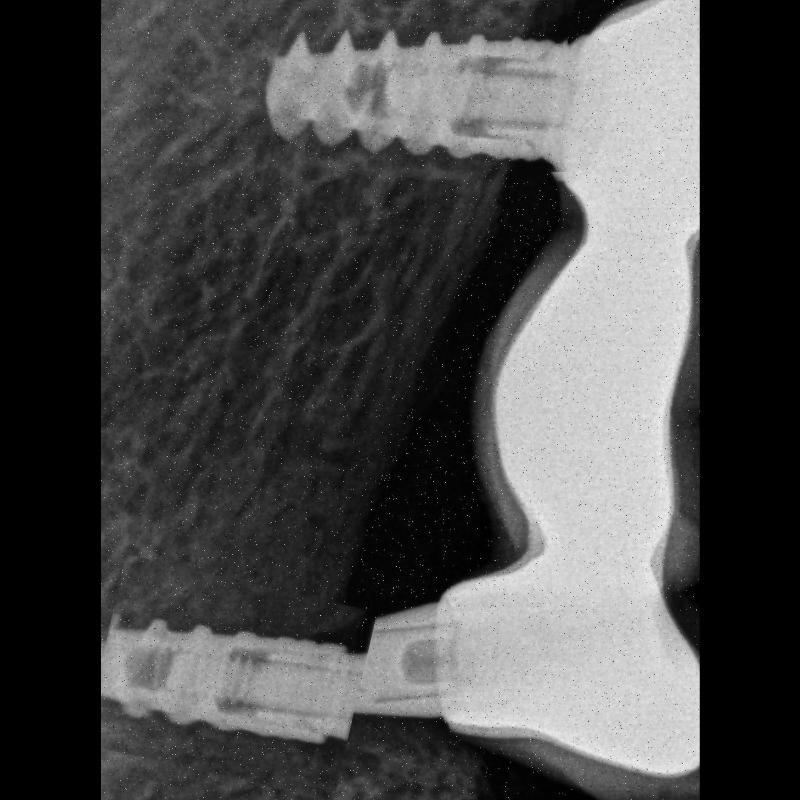ADIN: (102, 568, 368, 788), (267, 0, 571, 180)
